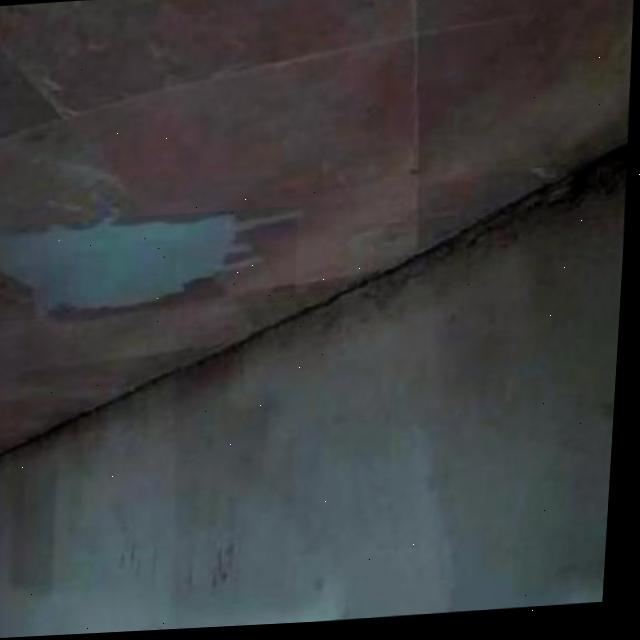spillage: (0, 214, 300, 319)
